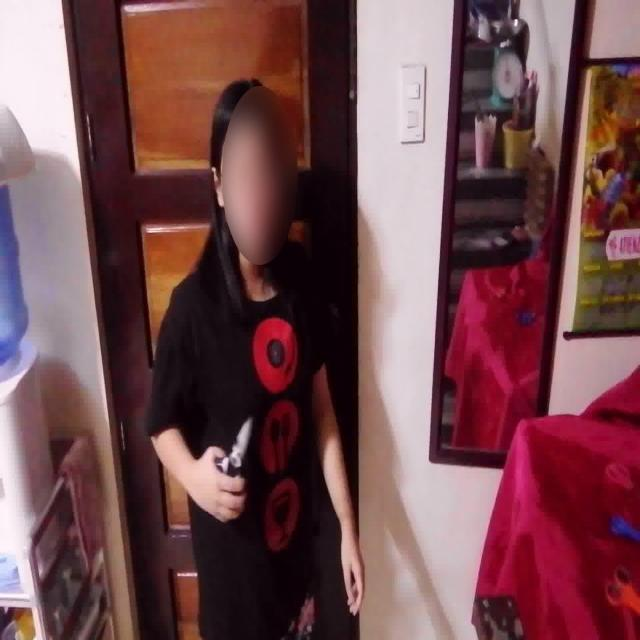scissor: (208, 417, 252, 508)
